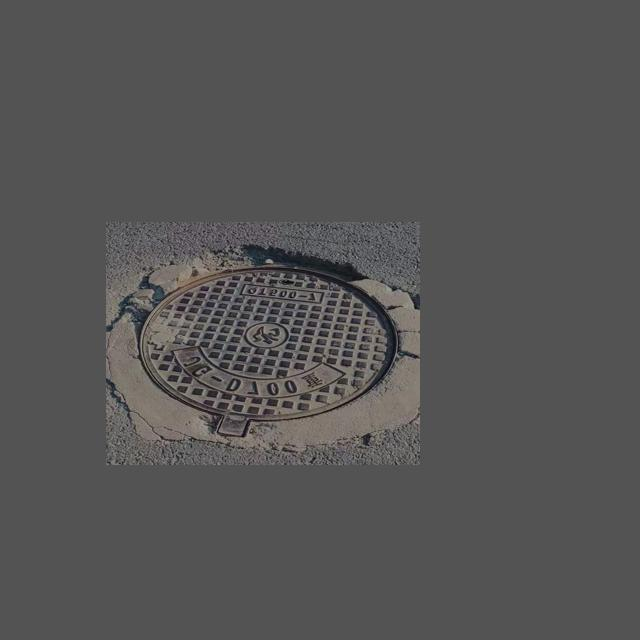circle: (117, 250, 411, 446)
